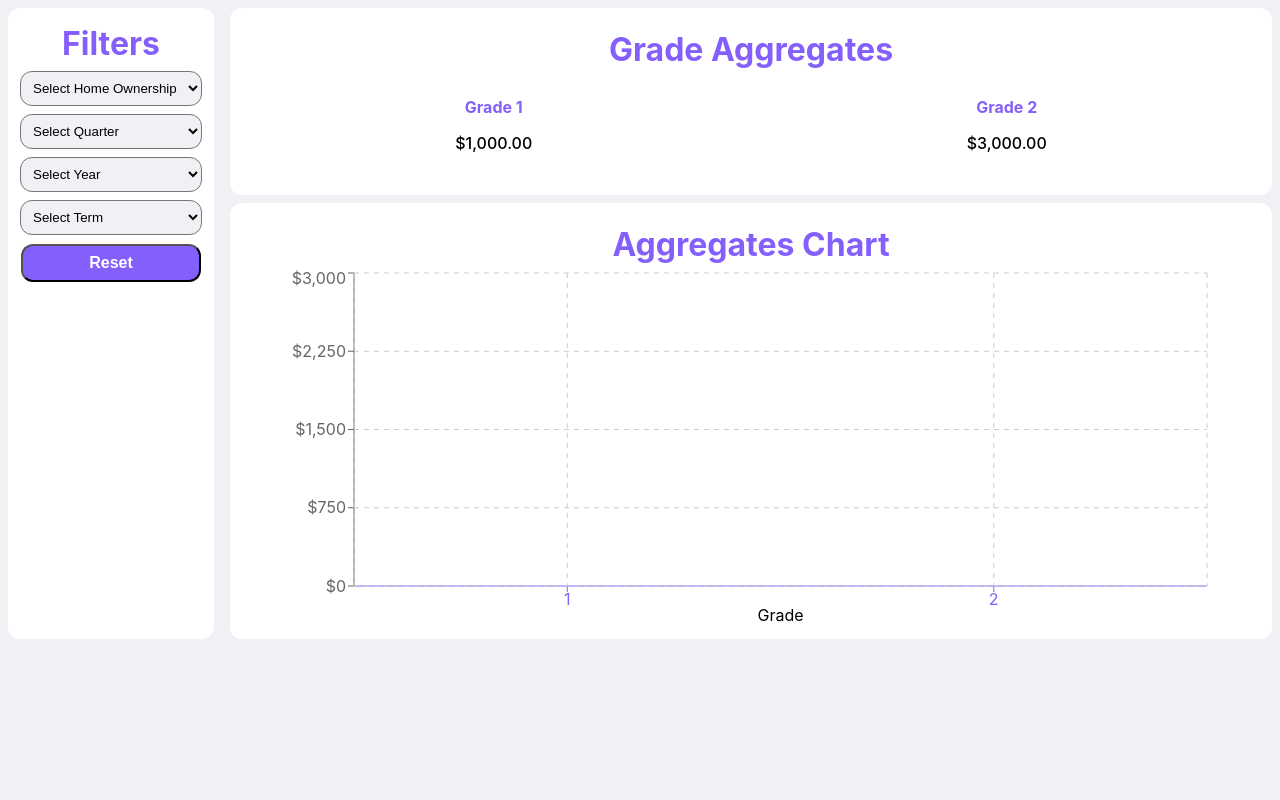
Test case: Filter functionality › filters quarter
This screenshot has width=1280, height=800.
Expected: the text "$1,000.00" is shown, [455, 133, 532, 153]
Expected: the text "$3,000.00" is shown, [967, 133, 1047, 153]
Step 1. Select "1" in the dropdown with test id "select-quarter" → (111, 132), box [20, 114, 202, 149]
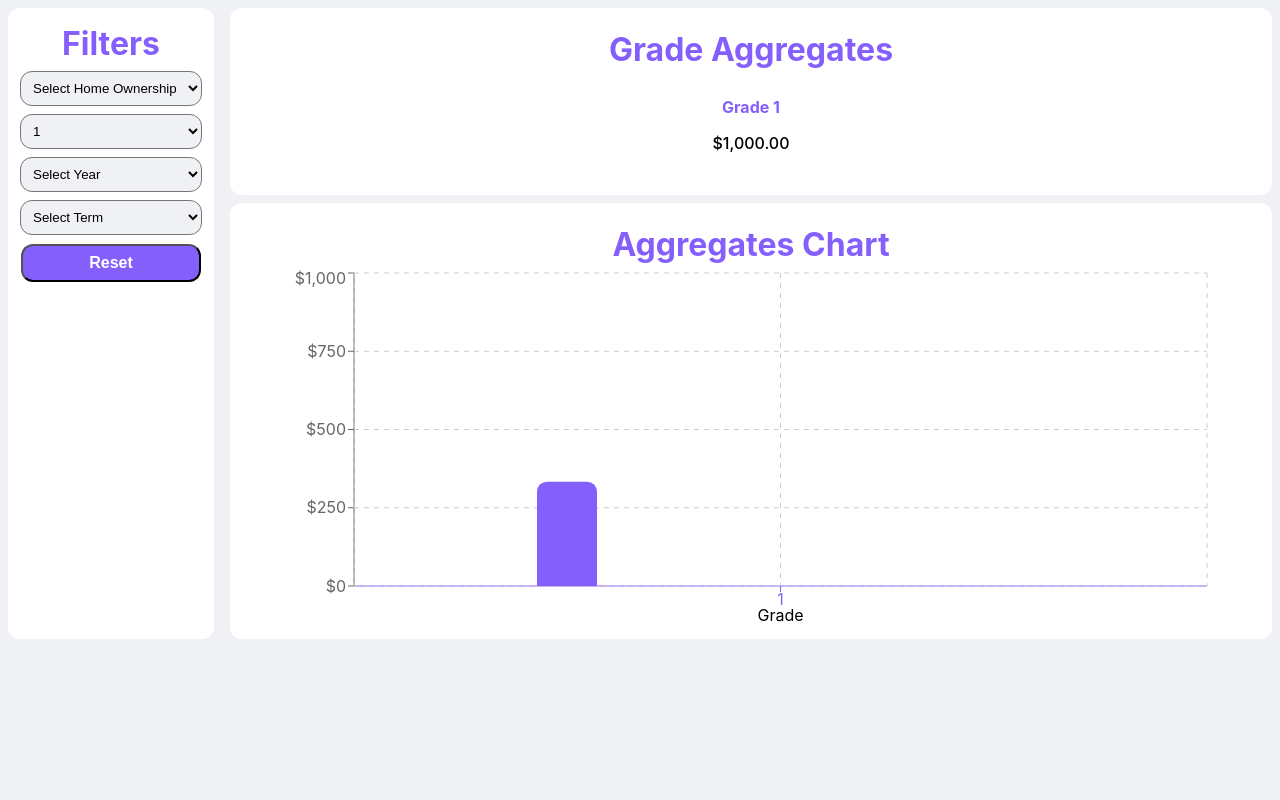
Expected: the text "$1,000.00" is shown, [712, 133, 790, 153]
Expected: the text "$3,000.00" is gone
Step 2. Select "2" in the dropdown with test id "select-quarter" → (111, 132), box [20, 114, 202, 149]
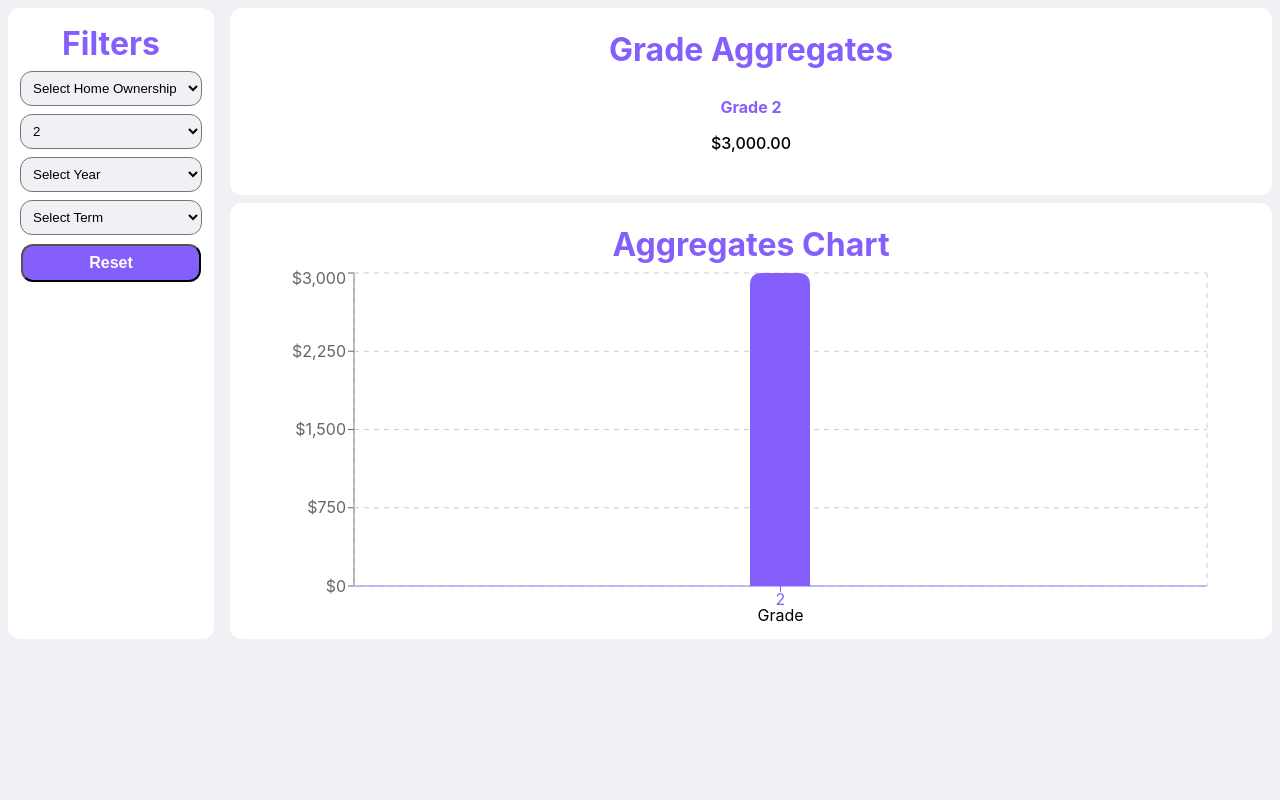
Expected: the text "$3,000.00" is shown, [711, 133, 791, 153]
Expected: the text "$1,000.00" is gone
